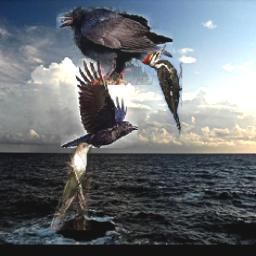Crow: (57, 7, 174, 85), (62, 58, 139, 148)
Cuckoo: (51, 142, 93, 230)
Woodpecker: (141, 45, 182, 138)
